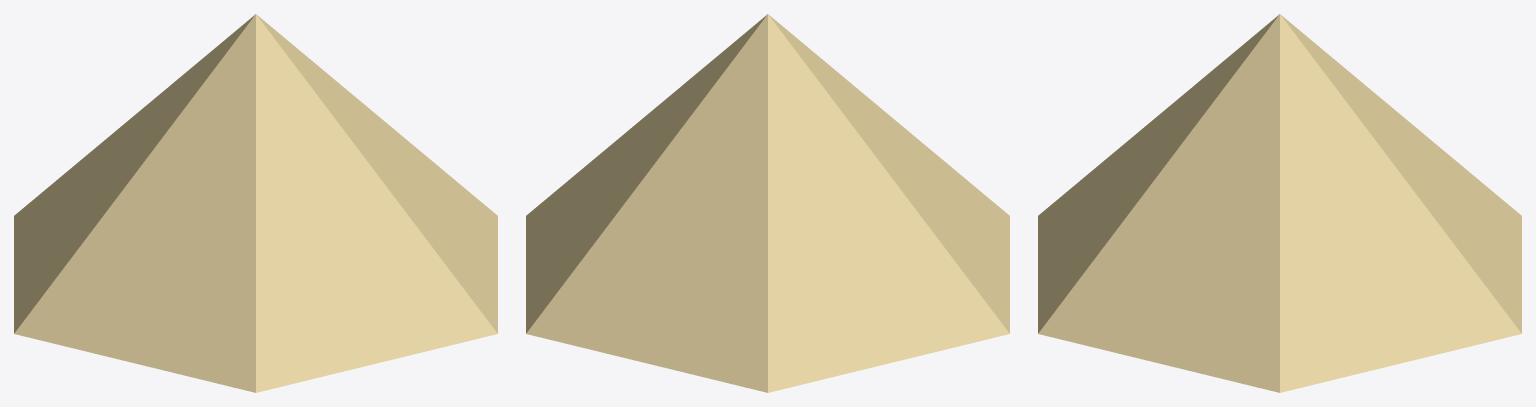
3 renders of one model, left to right at view 1: azimuth 30°, elevation 25°; view 2: azimuth 150°, elevation 25°; view 3: azimuth 270°, elevation 25°, orthographic.
Visible parts, largest first — view 1: sand:pCone12; view 2: sand:pCone12; view 3: sand:pCone12.
Boxes of the visible parts, box(x1,y1,x2,y2) form: sand:pCone12: box(14, 14, 497, 392); sand:pCone12: box(526, 14, 1009, 392); sand:pCone12: box(1038, 14, 1521, 392).
Size of the model in its own units: 2.71 by 1.39 by 2.34.
